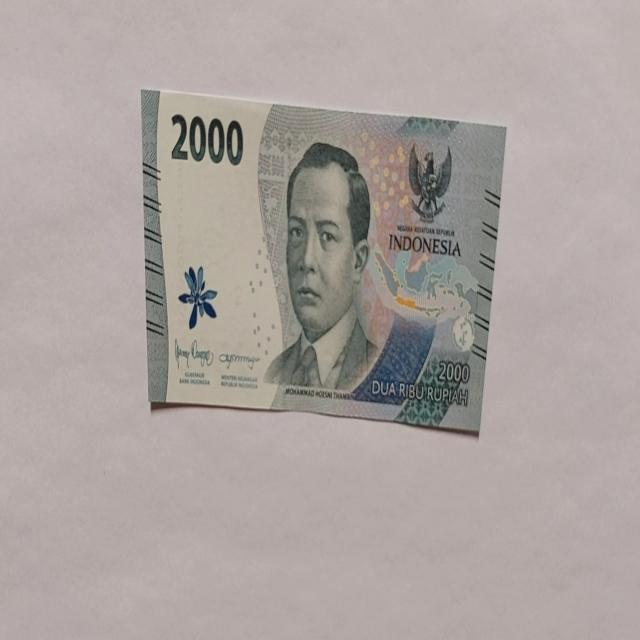dua ribu rupiah: (139, 86, 506, 435), (262, 140, 380, 393)
